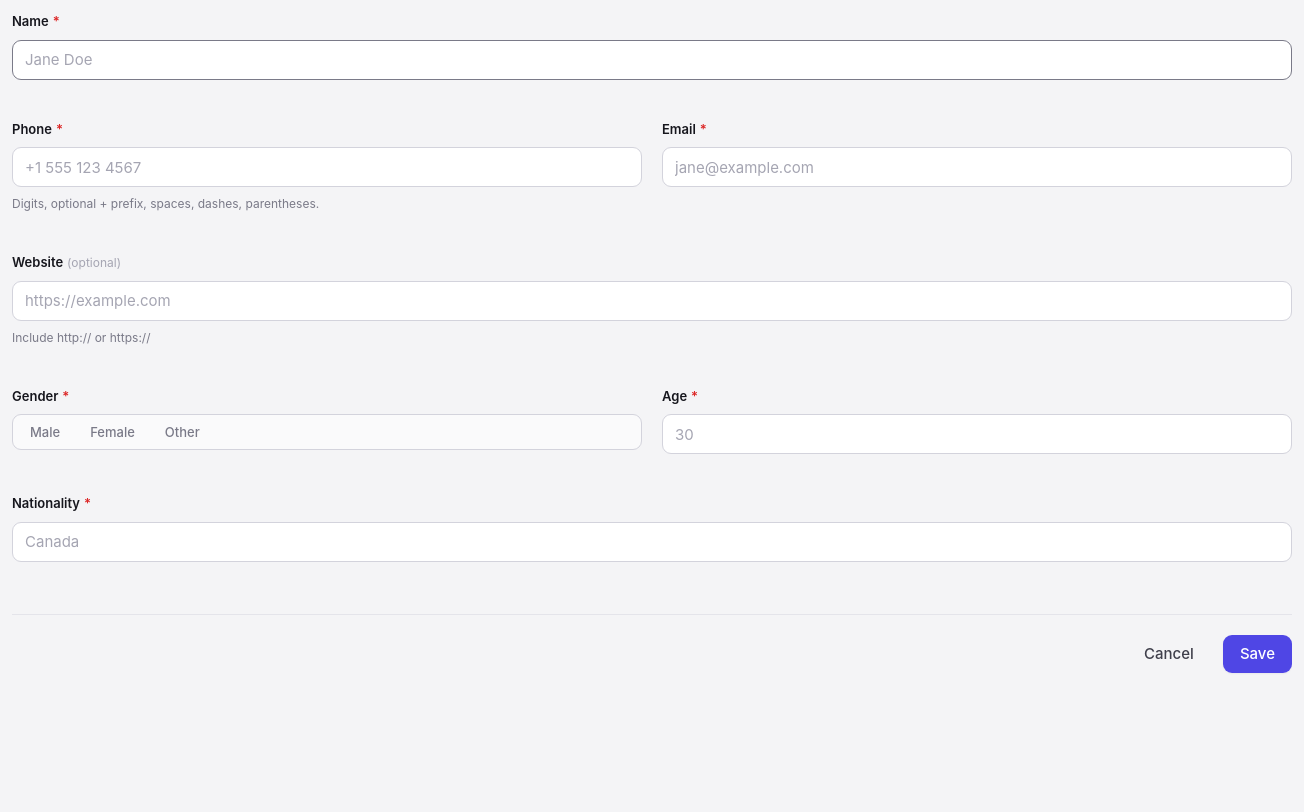
Scenario: ContactForm › shows inline validation errors and does not submit an empty form
The image size is (1304, 812).
Click the button "Save": click(1257, 654) left=1223, top=634, right=1292, bottom=672
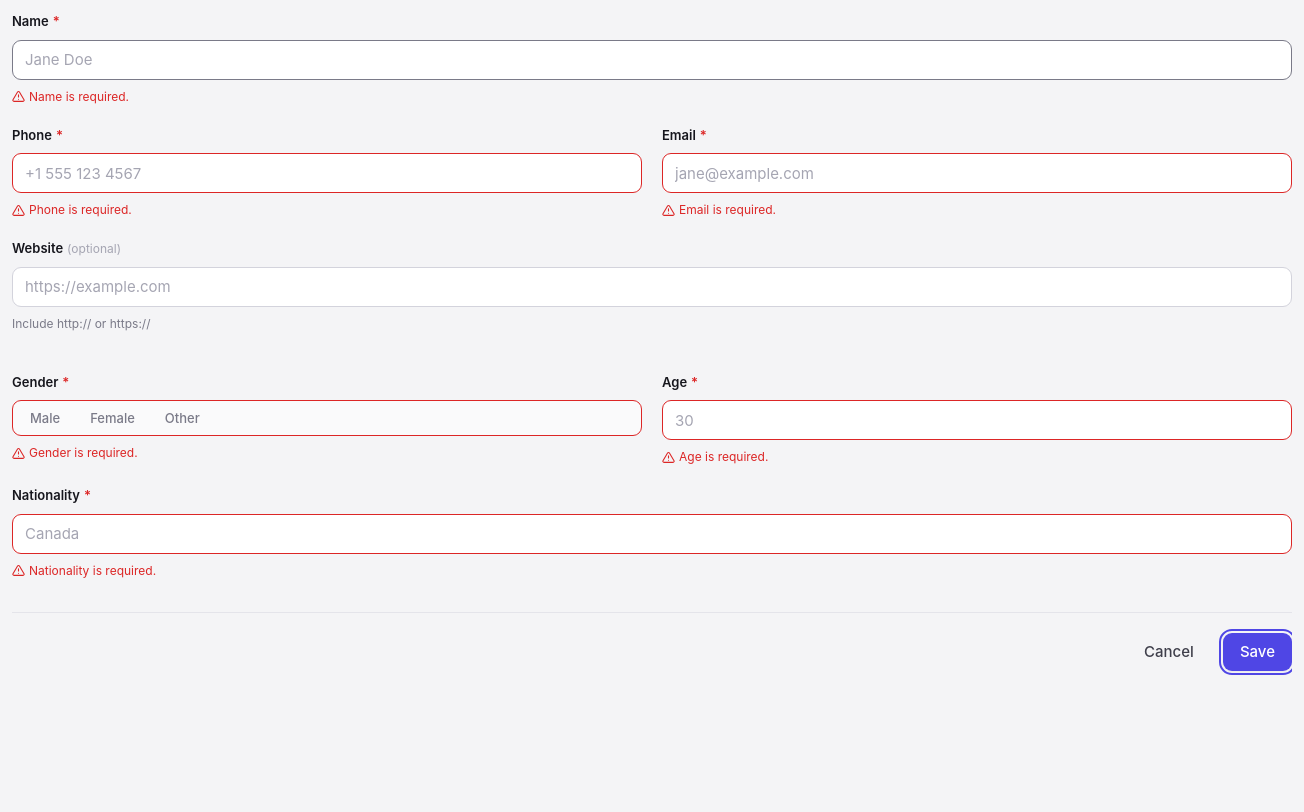
Result: the text "Name is required." is shown at left=12, top=88, right=129, bottom=104
Result: the text "Phone is required." is shown at left=12, top=202, right=132, bottom=217
Result: the text "Email is required." is shown at left=662, top=202, right=776, bottom=217
